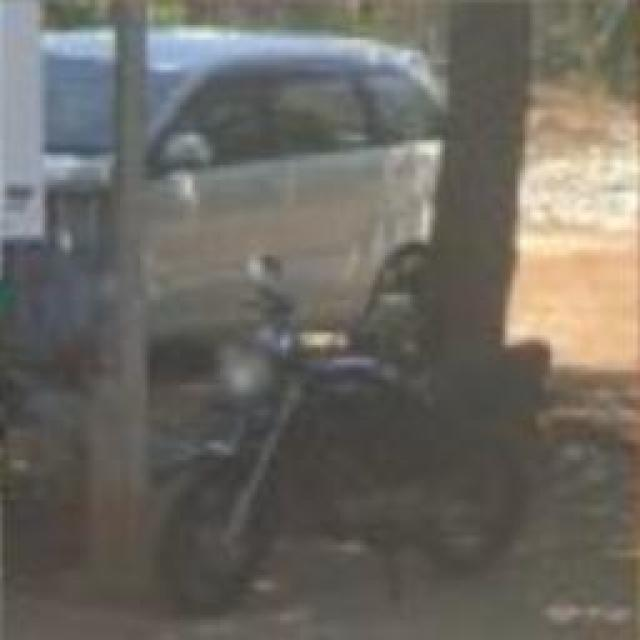car: (0, 18, 465, 367)
motorbike: (154, 288, 554, 614)
